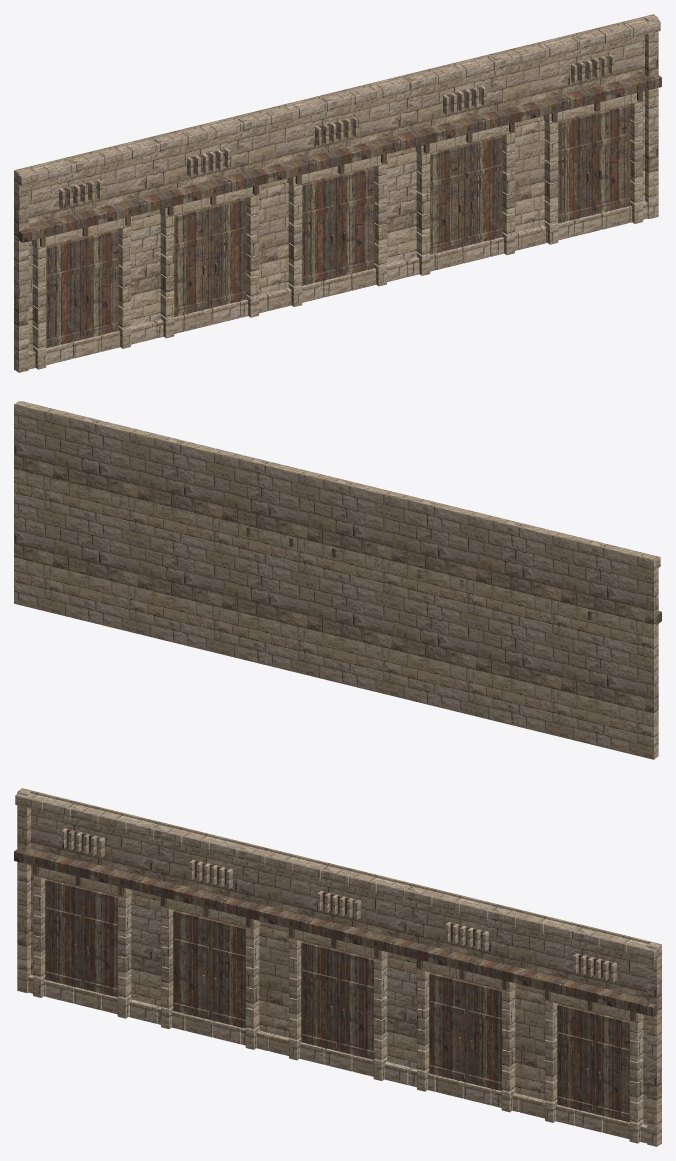
File: caravan-west.glb
3 views of the same model, one above another, from view 1: azimuth 30°, elevation 25°; view 2: azimuth 150°, elevation 25°; view 3: azimuth 330°, elevation 25° (orthographic).
Parts seen in each view (by area): view 1: Ashlar wall skin; view 2: Ashlar wall skin; view 3: Ashlar wall skin.
Part boxes in pixels (x1,y1,x2,y2): Ashlar wall skin: (14,14,661,372); Ashlar wall skin: (14,401,661,759); Ashlar wall skin: (14,788,661,1146).
Size of the model in its own units: 15.12 by 4.5 by 0.34.
Materials: 2 (2 with a texture image).
